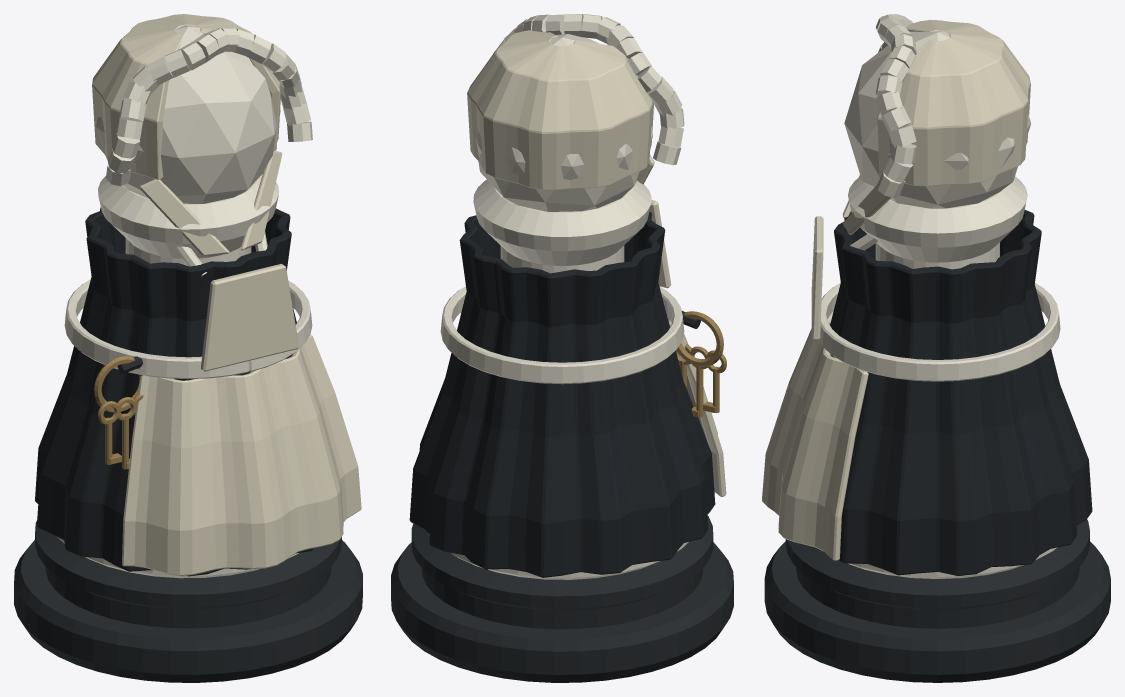
File: CHR_mara.glb
3 views of the same model, side by side, from view 1: azimuth 30°, elevation 25°; view 2: azimuth 150°, elevation 25°; view 3: azimuth 270°, elevation 25° (orthographic).
Parts seen in each view (by area): view 1: CHR_mara__paper, CHR_mara__ivory, CHR_mara__black, CHR_mara__cloth, CHR_mara__brass__keys; view 2: CHR_mara__cloth, CHR_mara__black, CHR_mara__ivory, CHR_mara__paper, CHR_mara__brass__keys; view 3: CHR_mara__cloth, CHR_mara__black, CHR_mara__paper, CHR_mara__ivory.
Part boxes in pixels (box(x1,y1,x2,y2)): CHR_mara__paper: box(92, 14, 361, 575); CHR_mara__ivory: box(56, 25, 312, 578); CHR_mara__black: box(14, 520, 362, 682); CHR_mara__cloth: box(35, 207, 313, 576); CHR_mara__brass__keys: box(94, 356, 143, 469); CHR_mara__cloth: box(409, 211, 715, 577); CHR_mara__black: box(391, 515, 733, 682); CHR_mara__ivory: box(429, 14, 688, 579); CHR_mara__paper: box(467, 30, 726, 496); CHR_mara__brass__keys: box(676, 311, 726, 417); CHR_mara__cloth: box(830, 210, 1092, 575); CHR_mara__black: box(764, 519, 1110, 682); CHR_mara__paper: box(762, 19, 1030, 560); CHR_mara__ivory: box(818, 14, 1060, 578).
Size of the model in its own units: 0.773 by 1.45 by 0.7788.
